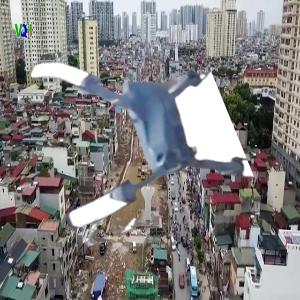drone: (26, 26, 226, 226)
